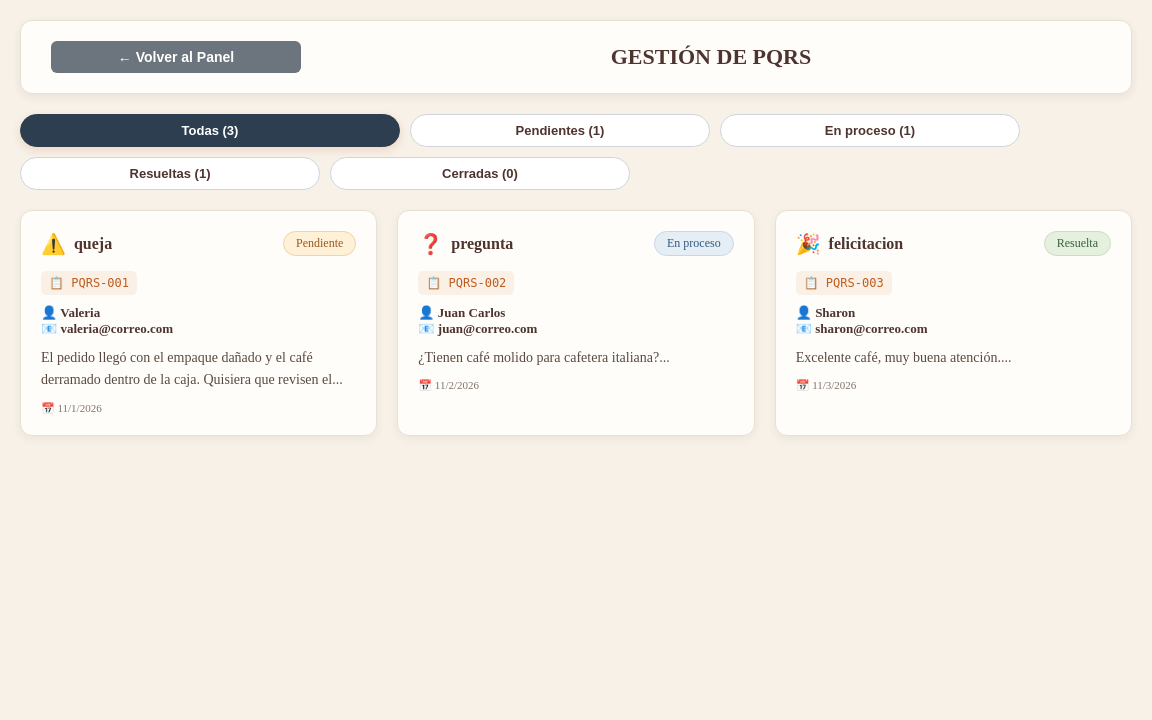
Test case: VerPqrs - actualizar estado › si el PATCH falla muestra error y no cierra el modal
expect the heading "GESTIÓN DE PQRS" is shown: met, box [611,44,811,69]
Step 1. Click the text "📋 PQRS-001" → point(89, 283), box [41,271,137,295]
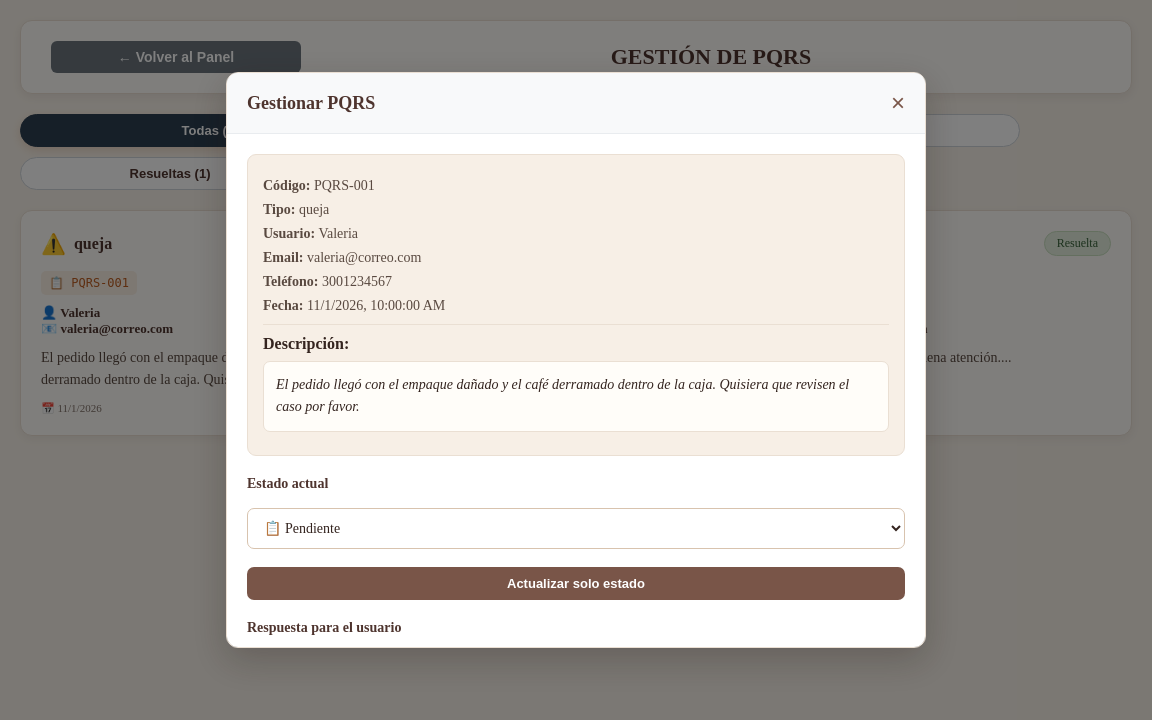
expect the heading "Gestionar PQRS" is shown: met, box [247,92,375,114]
Step 2. Select "🔒 Cerrada" in the dropdown → point(576, 528), box [247,508,905,549]
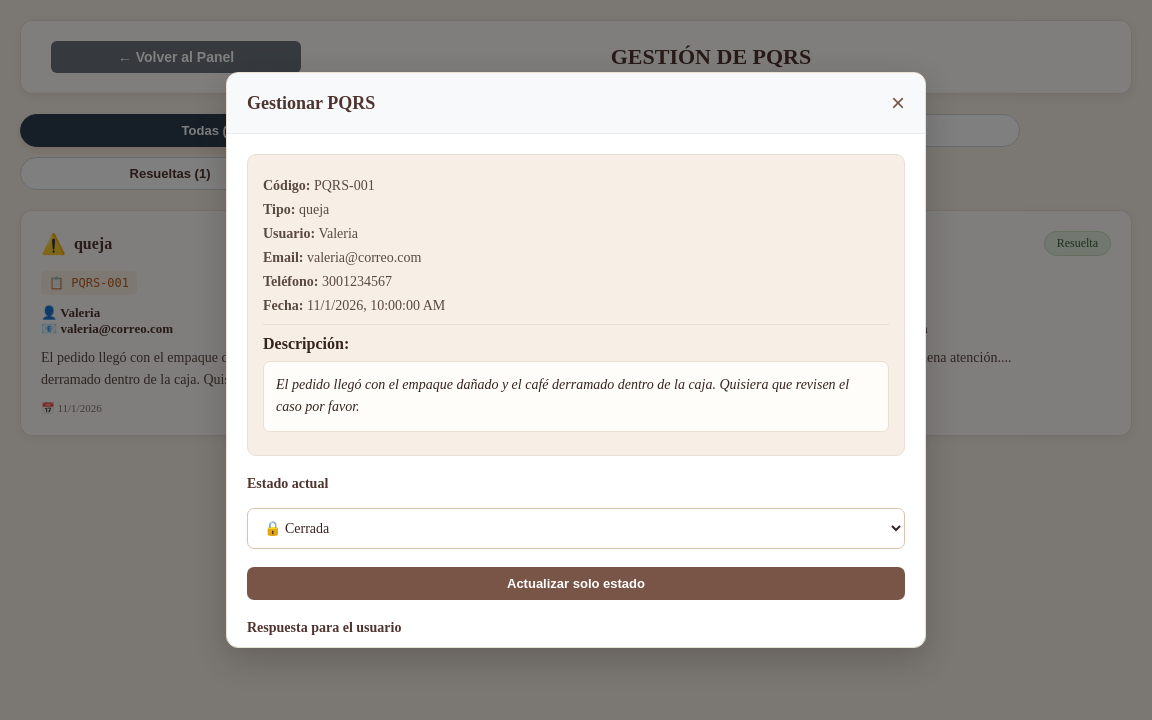
Step 3. Click the button "Actualizar solo estado" → point(576, 583), box [247,567,905,600]
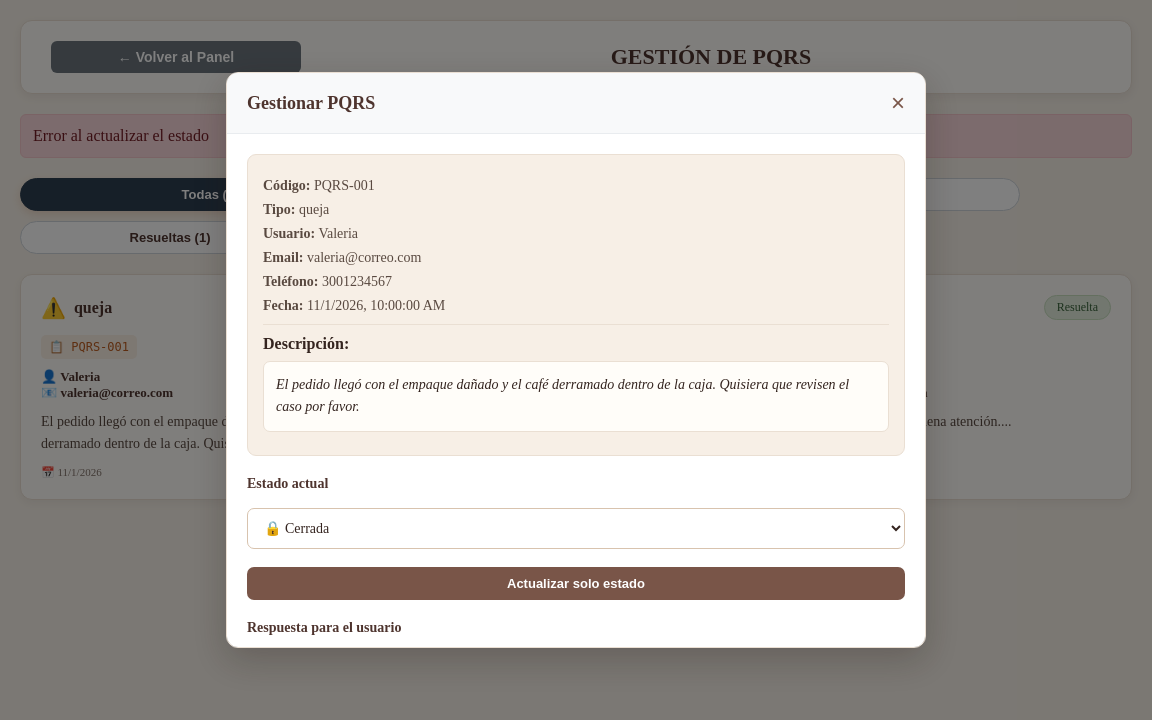
expect the heading "Gestionar PQRS" is shown: met, box [247,92,375,114]
expect the text "Error al actualizar el estado" is shown: met, box [20,114,1132,158]
